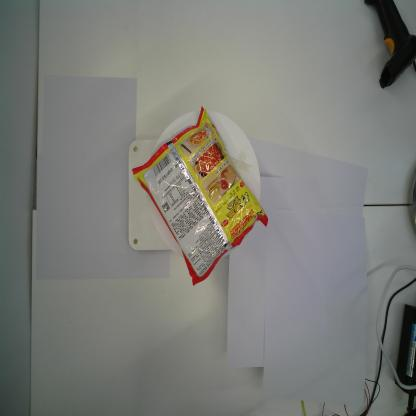Instant Noodles: (132, 105, 268, 288)
